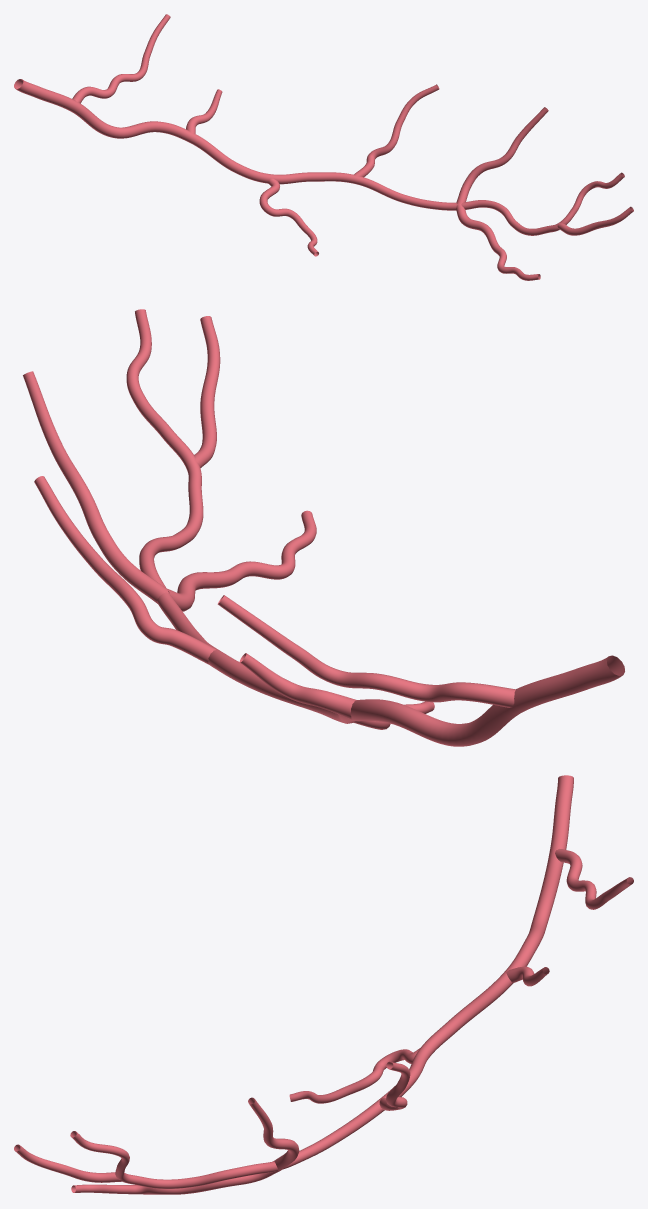
The picture shows the model from 3 angles, top to bottom: view 1: azimuth 30°, elevation 25°; view 2: azimuth 150°, elevation 25°; view 3: azimuth 270°, elevation 25°; orthographic projection. The views are drawn at different scales.
Parts seen in each view (by area): view 1: ZA_7477f15ce5d14a28; view 2: ZA_7477f15ce5d14a28; view 3: ZA_7477f15ce5d14a28.
Boxes of the visible parts, x1,y1,x2,y2 form: ZA_7477f15ce5d14a28: [14, 14, 633, 280]; ZA_7477f15ce5d14a28: [23, 309, 624, 746]; ZA_7477f15ce5d14a28: [14, 775, 633, 1194].
Size of the model in its own units: 0.0558 by 0.0202 by 0.0523.
